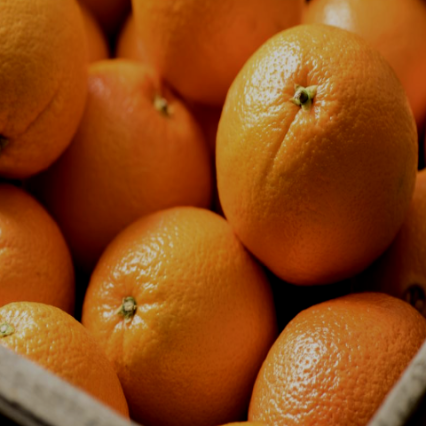orange: (204, 1, 425, 296), (67, 181, 288, 425)
